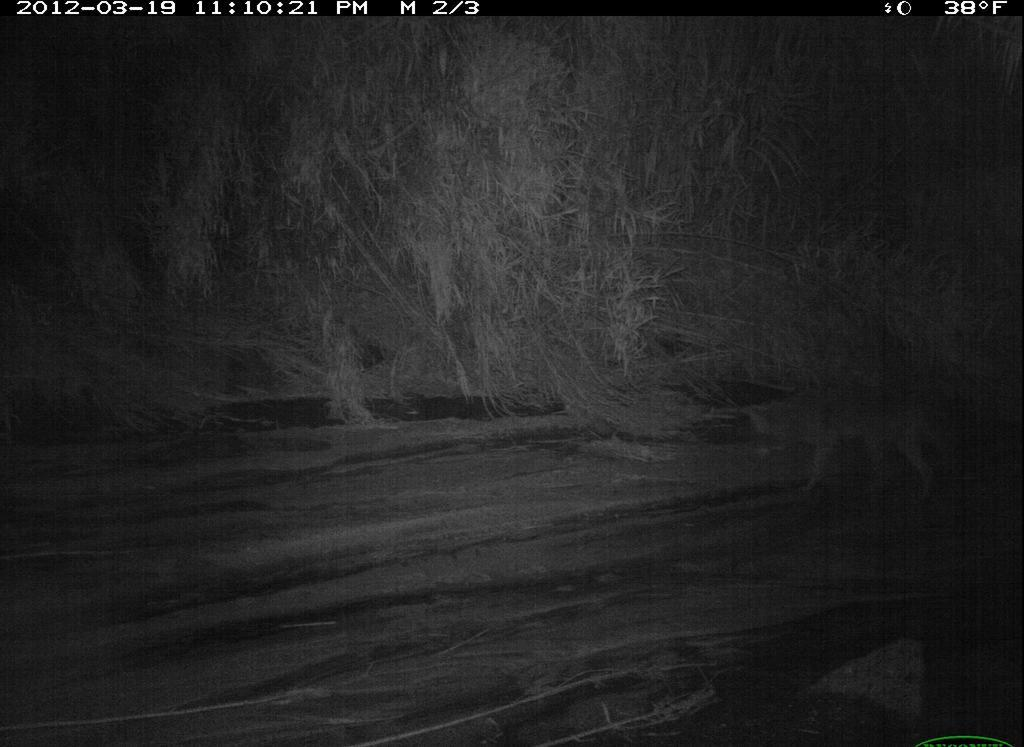coyote: (739, 386, 944, 506)
